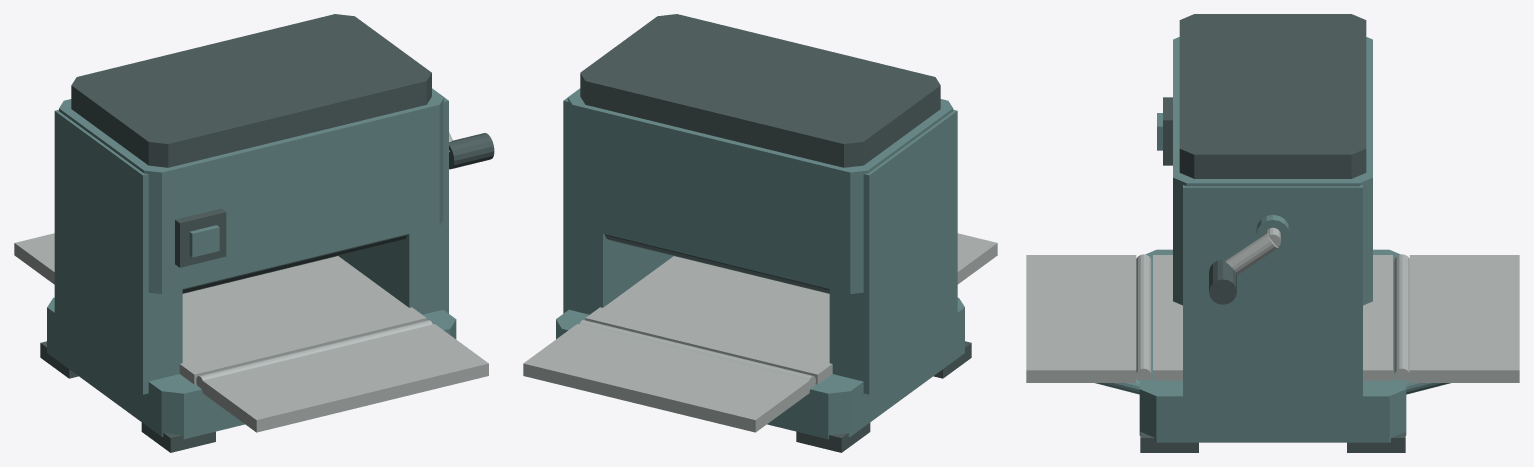
3 views of the same model, side by side, from view 1: azimuth 30°, elevation 25°; view 2: azimuth 150°, elevation 25°; view 3: azimuth 270°, elevation 25° (orthographic).
Visible parts, largest first — view 1: WholeUpperMotorHead, WholeTopMotorCover, WholeSideColumn-1, WholeCentralFeedBed, WholeFeedExtension-1, WholeLowChamferedMachineBed, WholeSideColumn1, WholeBlankFrontControlHousing, WholeExtensionHinge-1, WholeFeedExtension1, WholeCrankGrip, WholeRecessedFeedRoll-0.105 (+2 smaller); view 2: WholeUpperMotorHead, WholeTopMotorCover, WholeSideColumn-1, WholeCentralFeedBed, WholeFeedExtension1, WholeLowChamferedMachineBed, WholeSideColumn1, WholeExtensionHinge1, WholeFeedExtension-1, WholeRecessedFeedRoll0.105, WholeGroundPad(-0.218, 0.155); view 3: WholeSideColumn1, WholeTopMotorCover, WholeFeedExtension-1, WholeFeedExtension1, WholeLowChamferedMachineBed, WholeCentralFeedBed, WholeUpperMotorHead, WholeExtensionHinge-1, WholeExtensionHinge1, WholeCrankGrip, WholeOffsetCrank, WholeGroundPad(0.218, -0.155) (+3 smaller).
Boxes of the visible parts, x1,y1,x2,y2 form: WholeUpperMotorHead: [59, 88, 444, 293]; WholeTopMotorCover: [71, 14, 431, 167]; WholeSideColumn-1: [54, 109, 182, 394]; WholeCentralFeedBed: [179, 256, 426, 384]; WholeFeedExtension-1: [202, 324, 488, 432]; WholeLowChamferedMachineBed: [47, 297, 456, 439]; WholeSideColumn1: [339, 97, 448, 314]; WholeBlankFrontControlHousing: [175, 208, 226, 267]; WholeExtensionHinge-1: [196, 320, 432, 390]; WholeFeedExtension1: [14, 233, 54, 284]; WholeCrankGrip: [449, 133, 494, 169]; WholeRecessedFeedRoll-0.105: [182, 234, 407, 293]; WholeUpperMotorHead: [567, 88, 953, 293]; WholeTopMotorCover: [580, 14, 940, 167]; WholeSideColumn-1: [829, 109, 957, 394]; WholeCentralFeedBed: [585, 256, 832, 384]; WholeFeedExtension1: [523, 324, 809, 432]; WholeLowChamferedMachineBed: [556, 297, 964, 439]; WholeSideColumn1: [563, 98, 673, 314]; WholeExtensionHinge1: [579, 320, 815, 390]; WholeFeedExtension-1: [957, 233, 997, 284]; WholeRecessedFeedRoll0.105: [605, 234, 829, 293]; WholeGroundPad(-0.218, 0.155): [796, 423, 870, 452]; WholeSideColumn1: [1183, 185, 1362, 410]; WholeTopMotorCover: [1179, 14, 1366, 178]; WholeFeedExtension-1: [1026, 255, 1136, 382]; WholeFeedExtension1: [1409, 255, 1519, 382]; WholeLowChamferedMachineBed: [1139, 249, 1406, 442]; WholeCentralFeedBed: [1153, 255, 1392, 380]; WholeUpperMotorHead: [1173, 37, 1372, 305]; WholeExtensionHinge-1: [1136, 254, 1151, 381]; WholeExtensionHinge1: [1394, 254, 1409, 381]; WholeCrankGrip: [1209, 259, 1236, 304]; WholeOffsetCrank: [1225, 232, 1278, 274]; WholeGroundPad(0.218, -0.155): [1140, 432, 1198, 452].
Bounding box in the file's own units: 0.643 × 0.49 × 0.74.
